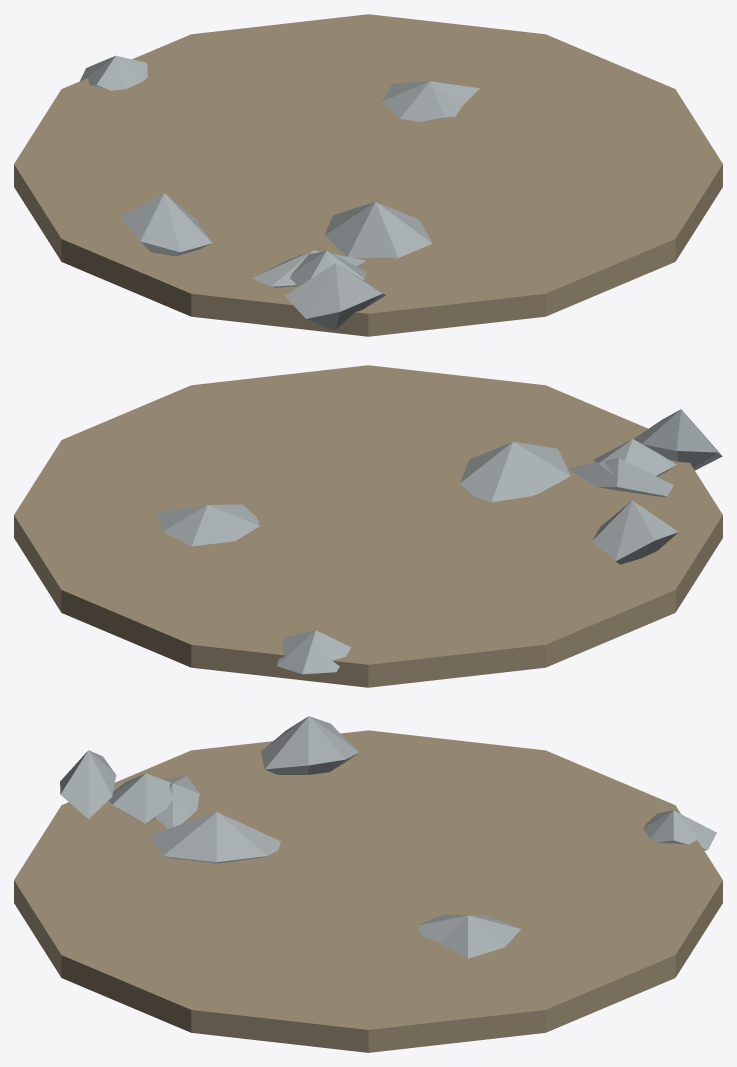
File: mud_debris_patch.glb
3 renders of one model, top to bottom at view 1: azimuth 30°, elevation 25°; view 2: azimuth 150°, elevation 25°; view 3: azimuth 270°, elevation 25°, orthographic.
Parts seen in each view (by area): view 1: mud_debris_patch; view 2: mud_debris_patch; view 3: mud_debris_patch.
Part boxes in pixels (<box>): mud_debris_patch: <box>14,14,722,336</box>; mud_debris_patch: <box>14,365,722,687</box>; mud_debris_patch: <box>14,716,722,1052</box>.
Size of the model in its own units: 2.8 by 0.3177 by 2.8.
